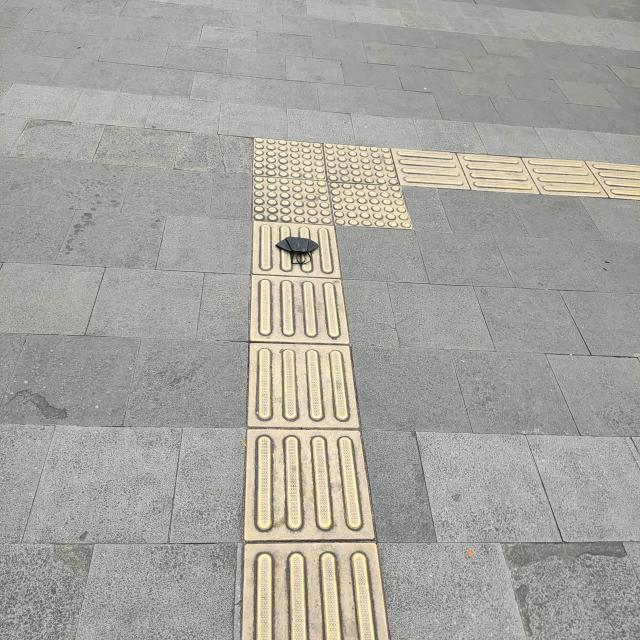kanan: (223, 105, 543, 261)
